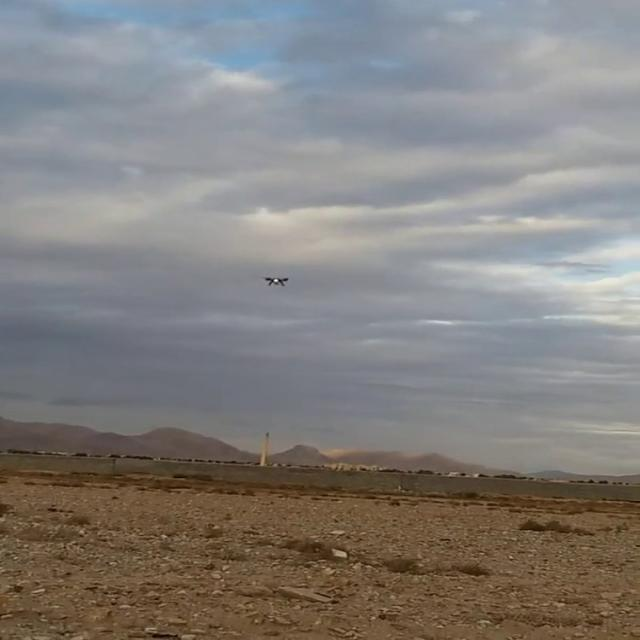drone: (260, 272, 292, 288)
